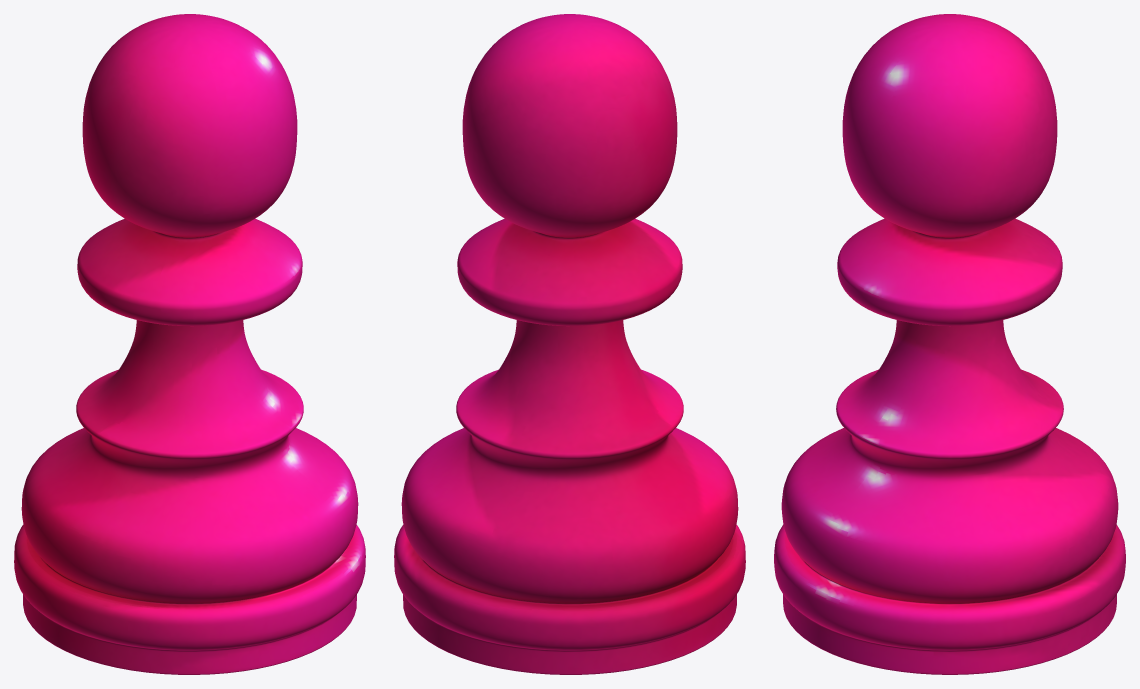
File: pawn.gltf
3 views of the same model, side by side, from view 1: azimuth 30°, elevation 25°; view 2: azimuth 150°, elevation 25°; view 3: azimuth 270°, elevation 25° (orthographic).
Visible parts, largest first — view 1: Object001; view 2: Object001; view 3: Object001.
Part boxes in pixels (x1,y1,x2,y2): Object001: [14, 14, 365, 674]; Object001: [394, 14, 745, 674]; Object001: [774, 14, 1125, 674].
Bounding box in the file's own units: 3.4 × 6.2 × 3.4.
Materials: 1 (1 with a texture image).
